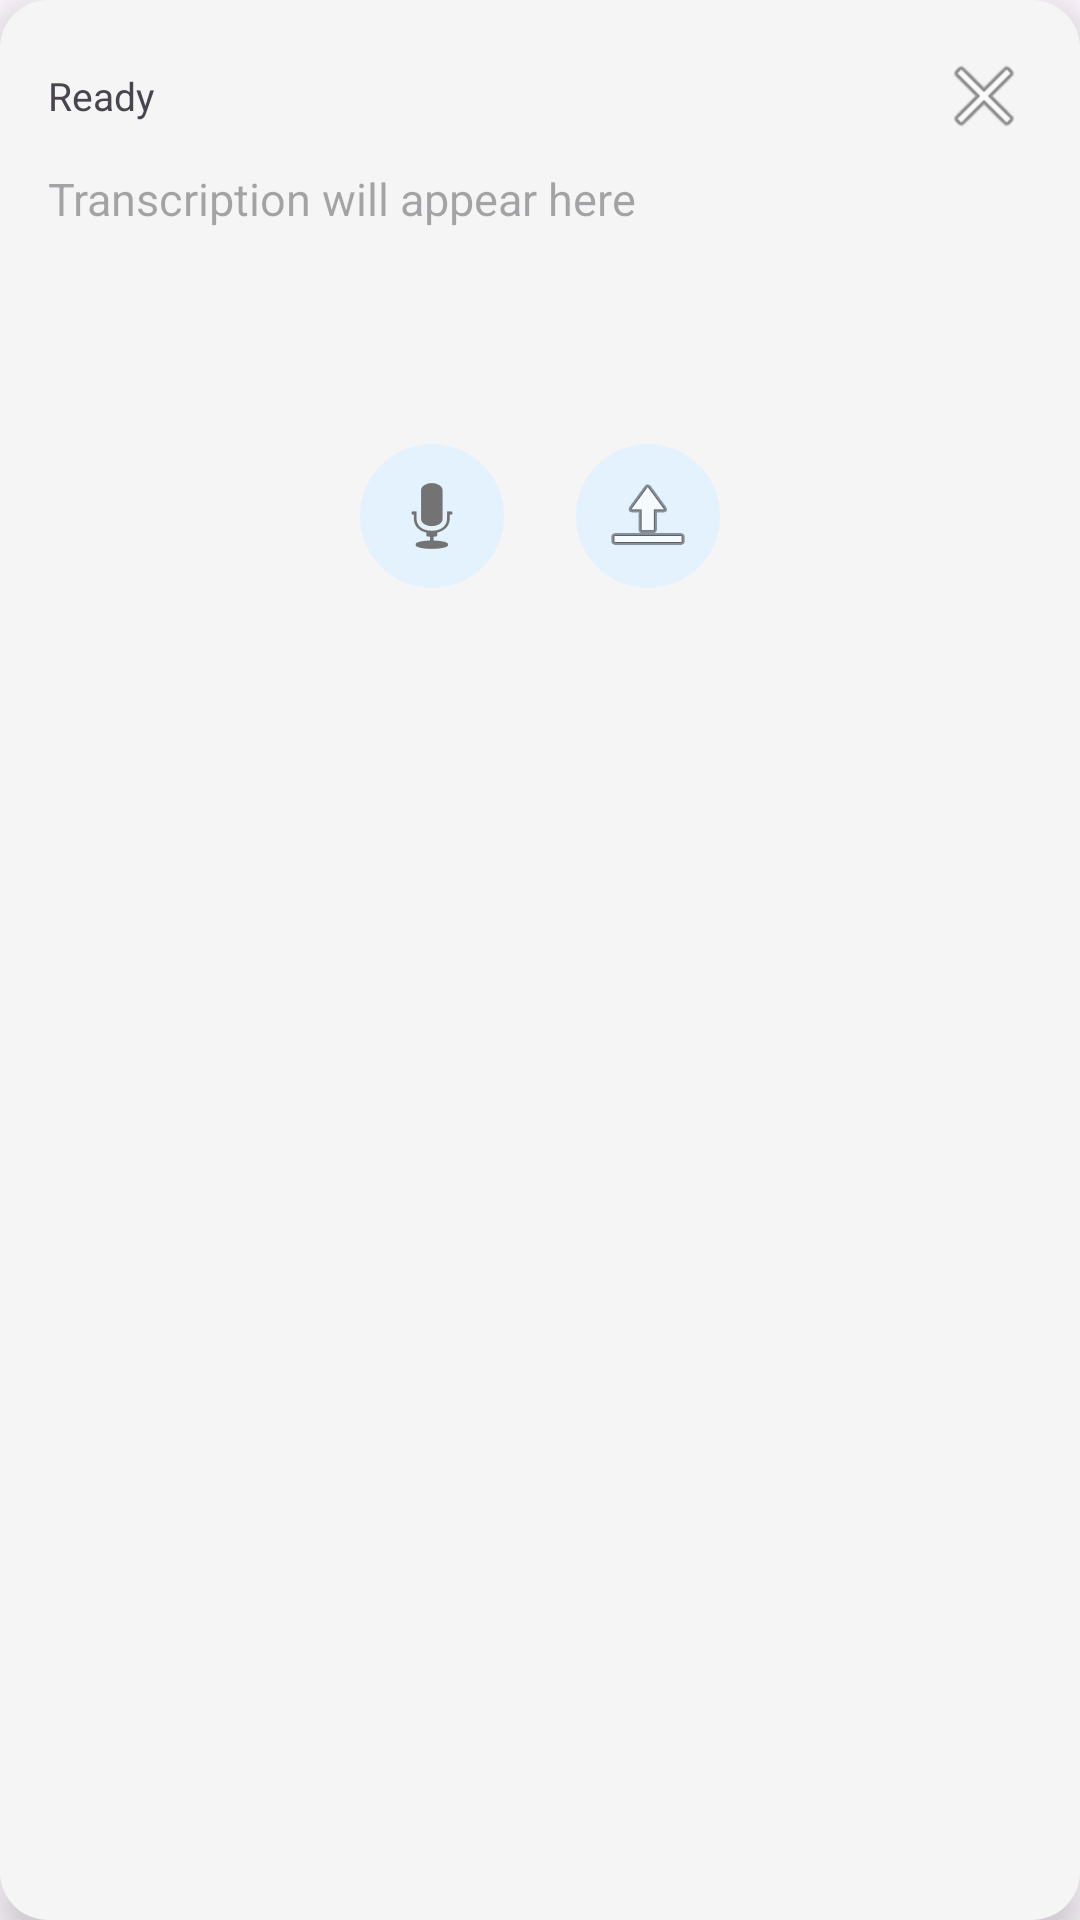

Icons on this 1080 × 1920 Android screen, each with the point to tap as (x=x, y=y):
Close panel: (x=984, y=96)
Pick audio file: (x=648, y=516)
Record: (x=432, y=516)
